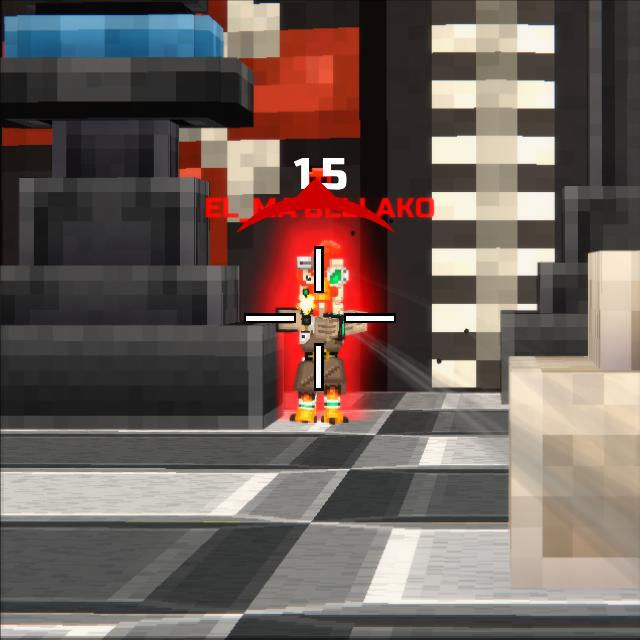Enemy: (276, 257, 367, 425)
